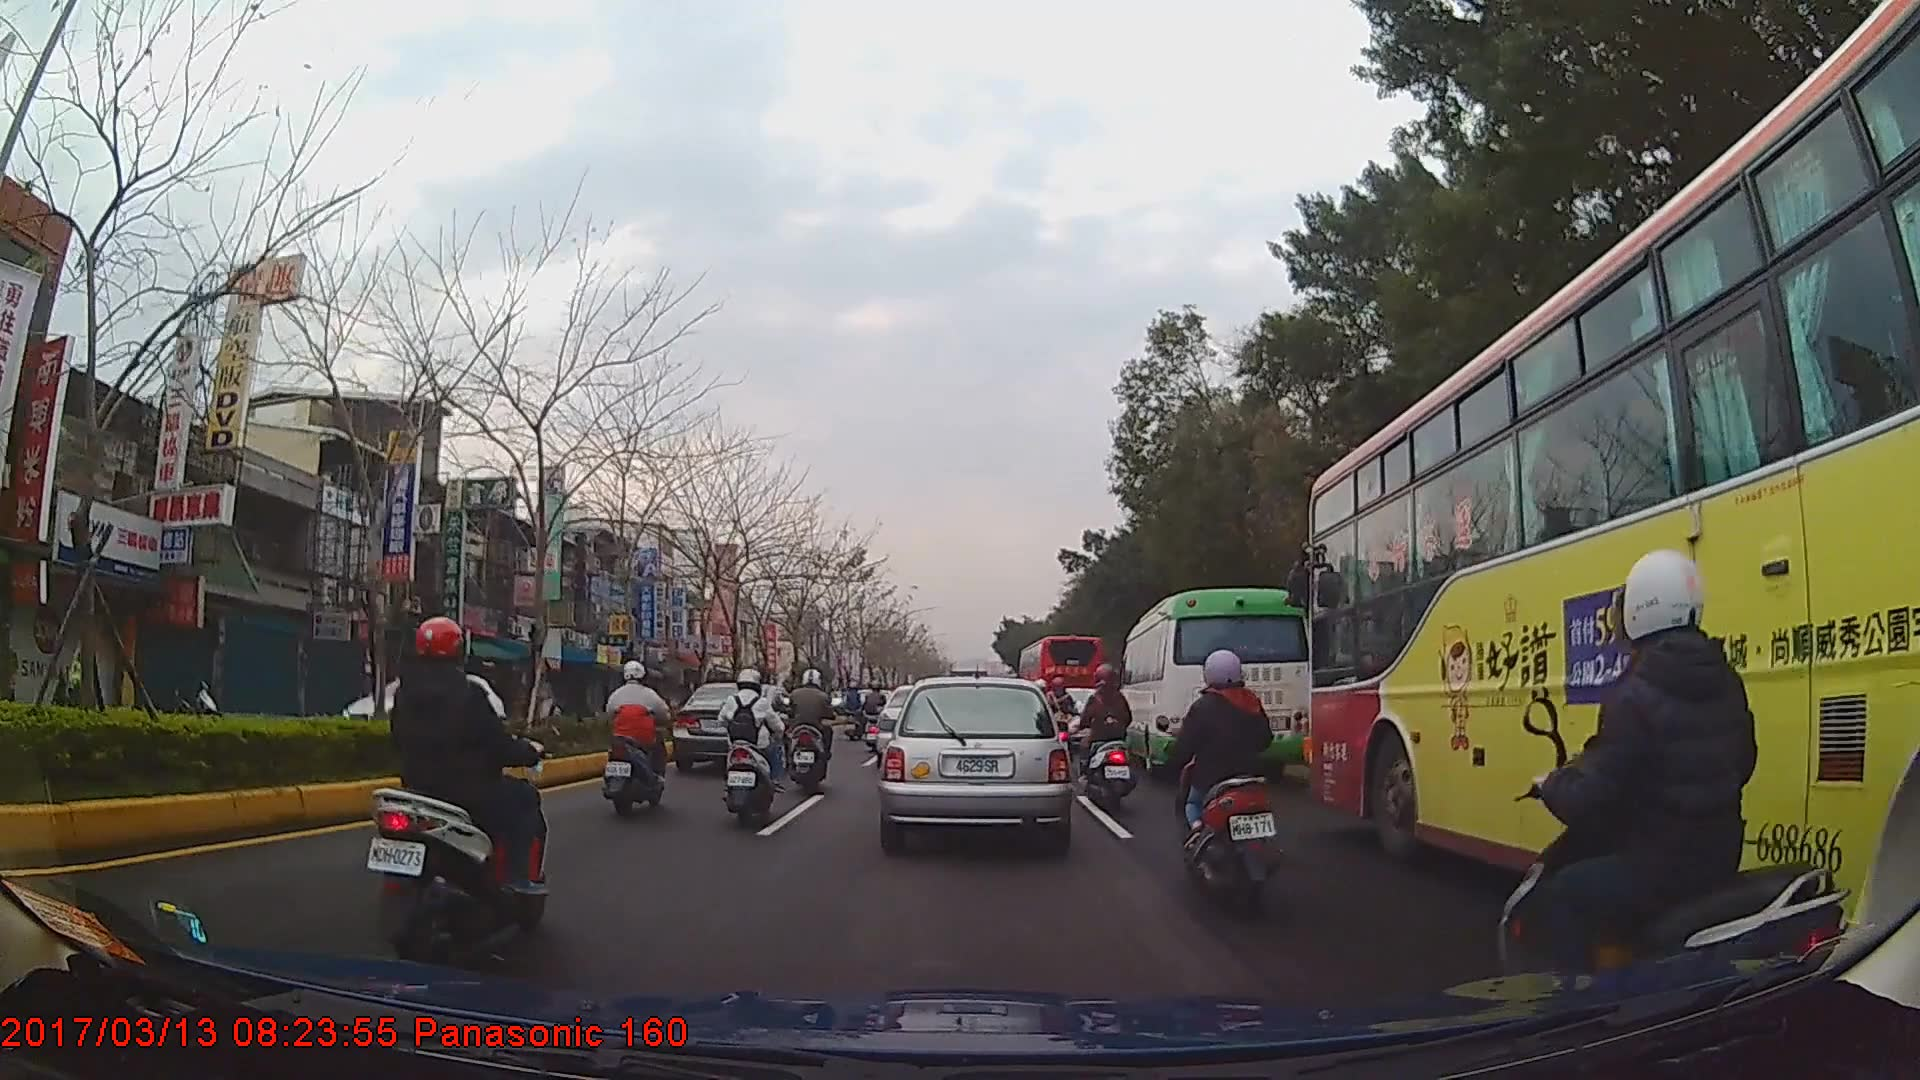rider: (1498, 545, 1858, 1023), (367, 613, 540, 980), (1172, 644, 1291, 919), (720, 667, 786, 824), (606, 658, 673, 815), (1078, 665, 1136, 800), (784, 668, 840, 794), (862, 681, 889, 752), (844, 681, 866, 723)
vehicle: (1307, 0, 1920, 997), (1116, 584, 1314, 775), (879, 672, 1071, 848), (671, 680, 803, 778), (1016, 630, 1104, 740)
